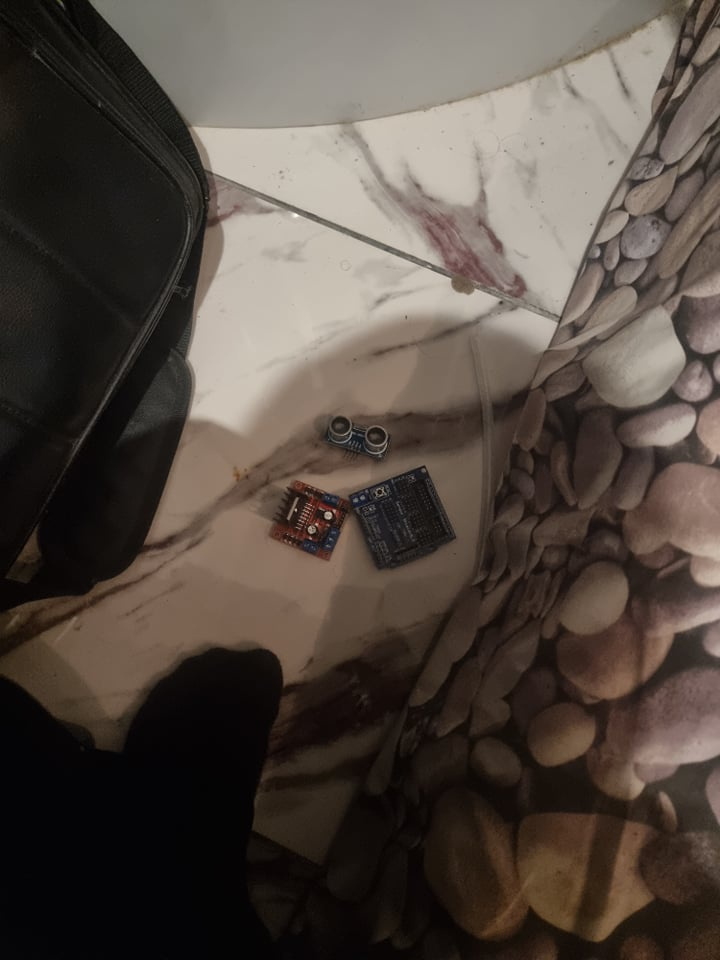5V EXPANSION: (350, 466, 455, 570)
MOTOR: (269, 480, 347, 563)
SENSOR: (327, 415, 393, 462)
